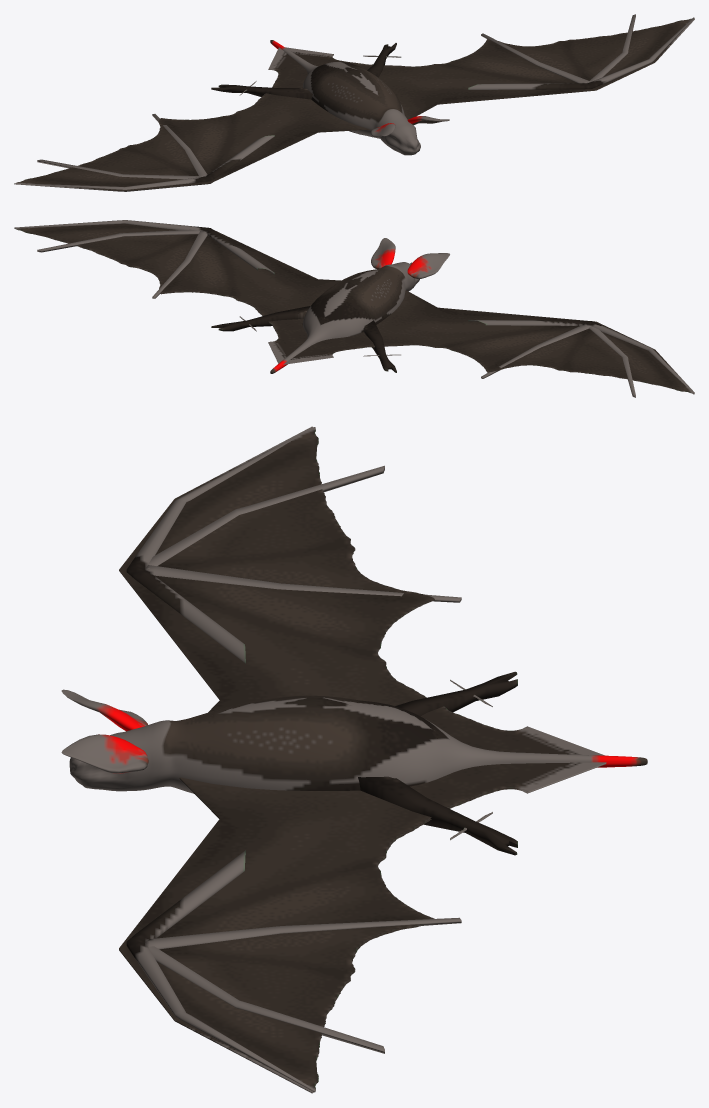
The model's file is bat.obj.
The picture shows the model from 3 angles, top to bottom: view 1: azimuth 30°, elevation 25°; view 2: azimuth 150°, elevation 25°; view 3: azimuth 270°, elevation 25°; orthographic projection. The views are drawn at different scales.
Parts seen in each view (by area): view 1: bat; view 2: bat; view 3: bat.
Part boxes in pixels (bbox=[...]): bat: bbox=[14, 14, 694, 191]; bat: bbox=[14, 220, 694, 397]; bat: bbox=[61, 426, 647, 1093].
Size of the model in its own units: 1.25 by 0.0914 by 0.4642.
1 material, 1 textured.
